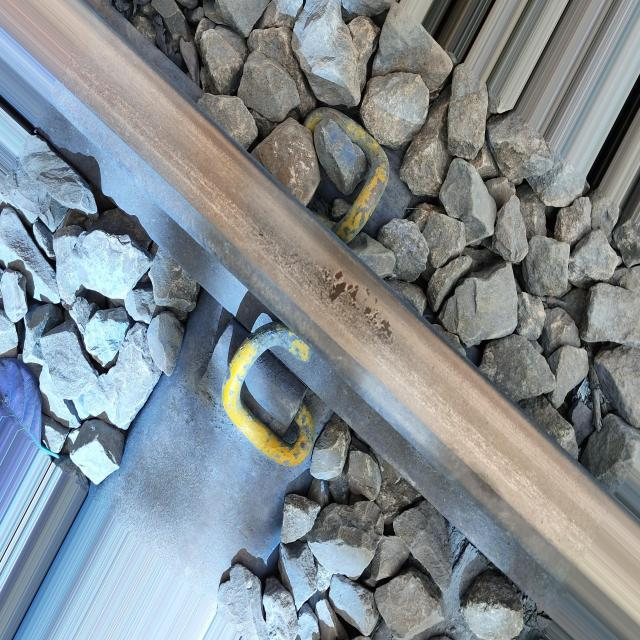broken_rail_medium: (323, 268, 395, 344)
